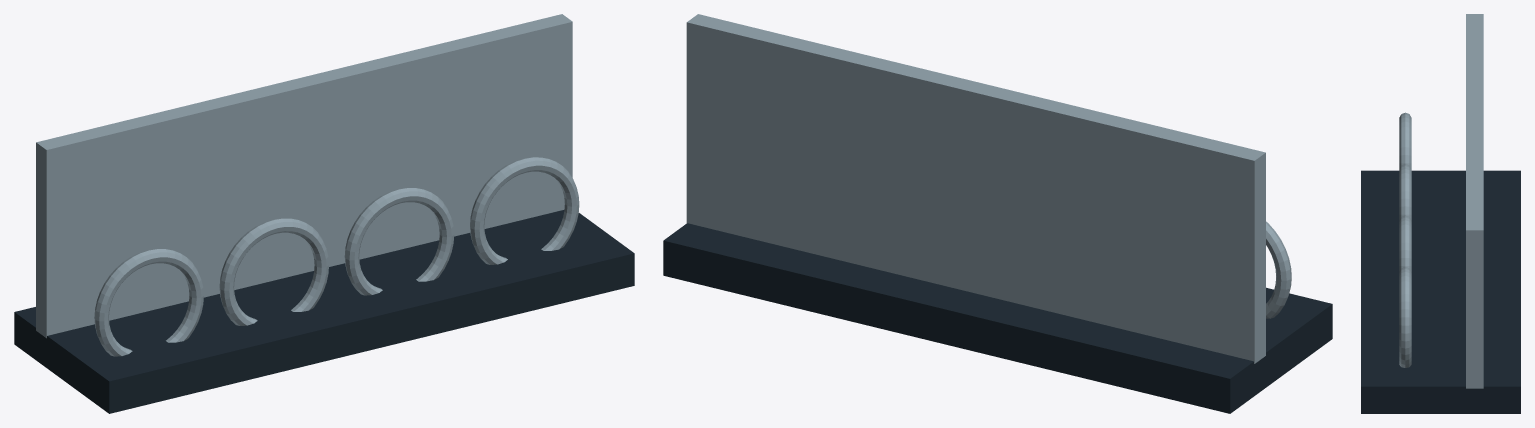
Rendered from 17_L84_ReactionWheelClusterHousing.fbx.
3 views of the same model, side by side, from view 1: azimuth 30°, elevation 25°; view 2: azimuth 150°, elevation 25°; view 3: azimuth 270°, elevation 25° (orthographic). The views are drawn at different scales.
Visible parts, largest first — view 1: L84_ReactionWheelClusterHousing; view 2: L84_ReactionWheelClusterHousing; view 3: L84_ReactionWheelClusterHousing.
Part boxes in pixels (x1,y1,x2,y2): L84_ReactionWheelClusterHousing: [14, 14, 634, 413]; L84_ReactionWheelClusterHousing: [663, 14, 1332, 413]; L84_ReactionWheelClusterHousing: [1361, 14, 1520, 413].
Size of the model in its own units: 576 by 228 by 180.
